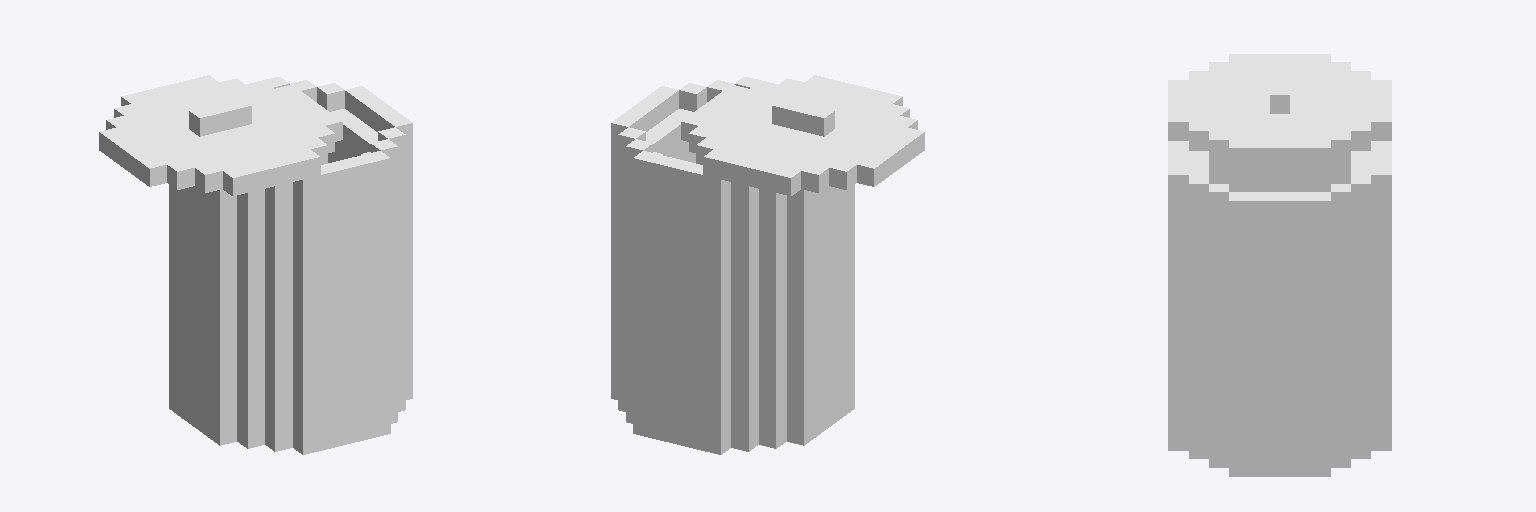
Rendered from garbage_can_semiclosed.obj.
The picture shows the model from 3 angles: view 1: azimuth 30°, elevation 25°; view 2: azimuth 150°, elevation 25°; view 3: azimuth 270°, elevation 25°; orthographic projection.
Visible parts, largest first — view 1: object 1; view 2: object 1; view 3: object 1.
Boxes of the visible parts, box(x1,y1,x2,y2) form: object 1: box(99, 75, 412, 454); object 1: box(611, 75, 924, 454); object 1: box(1168, 54, 1391, 476).
Size of the model in its own units: 1.5 by 1.7 by 1.1.